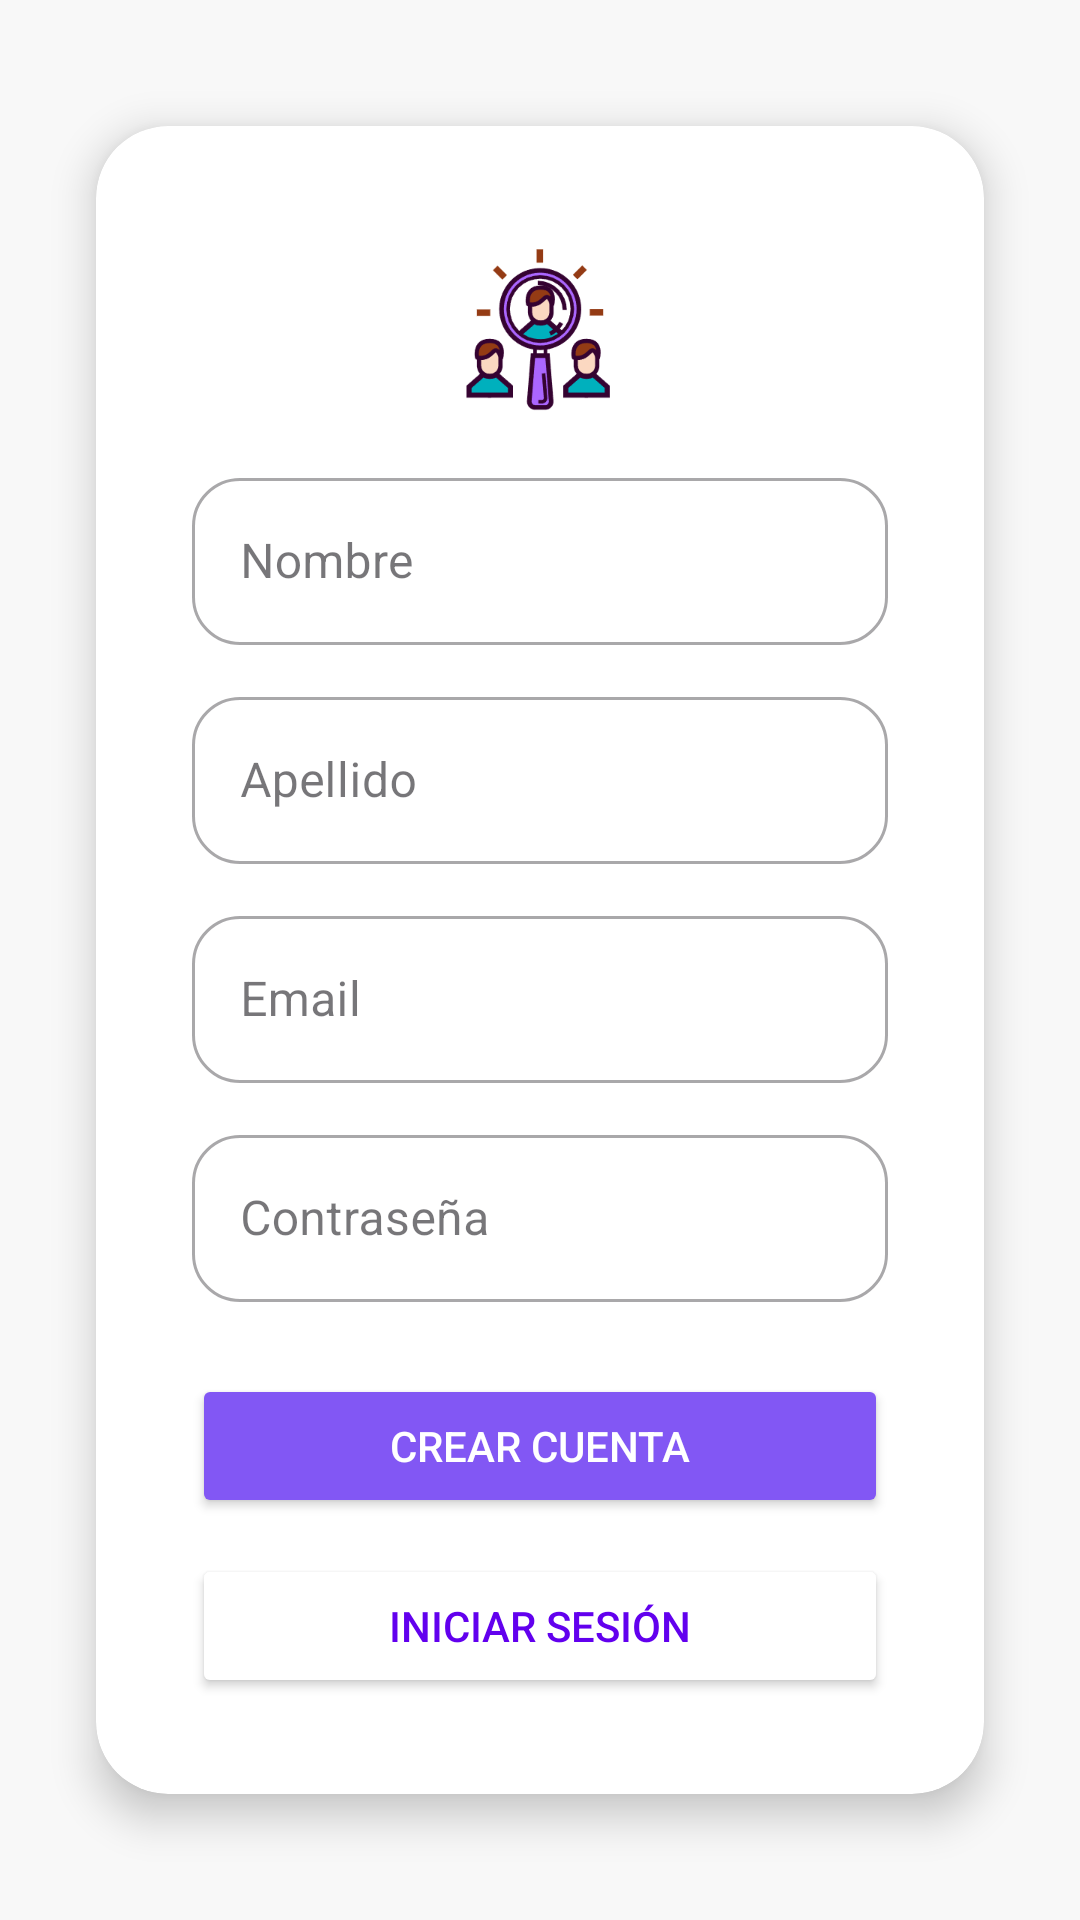

Named icons in this screenshot (1080*1920) and their centers, (x=x, y=y):
discover: (x=538, y=329)
